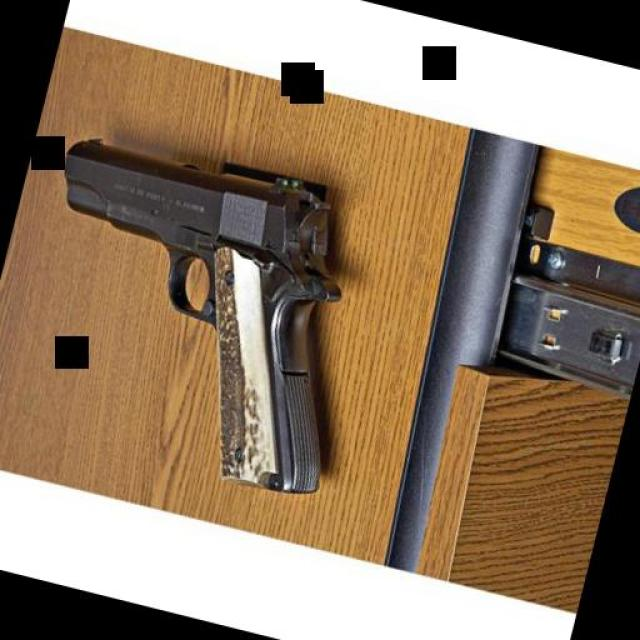gun: (1, 114, 396, 506)
